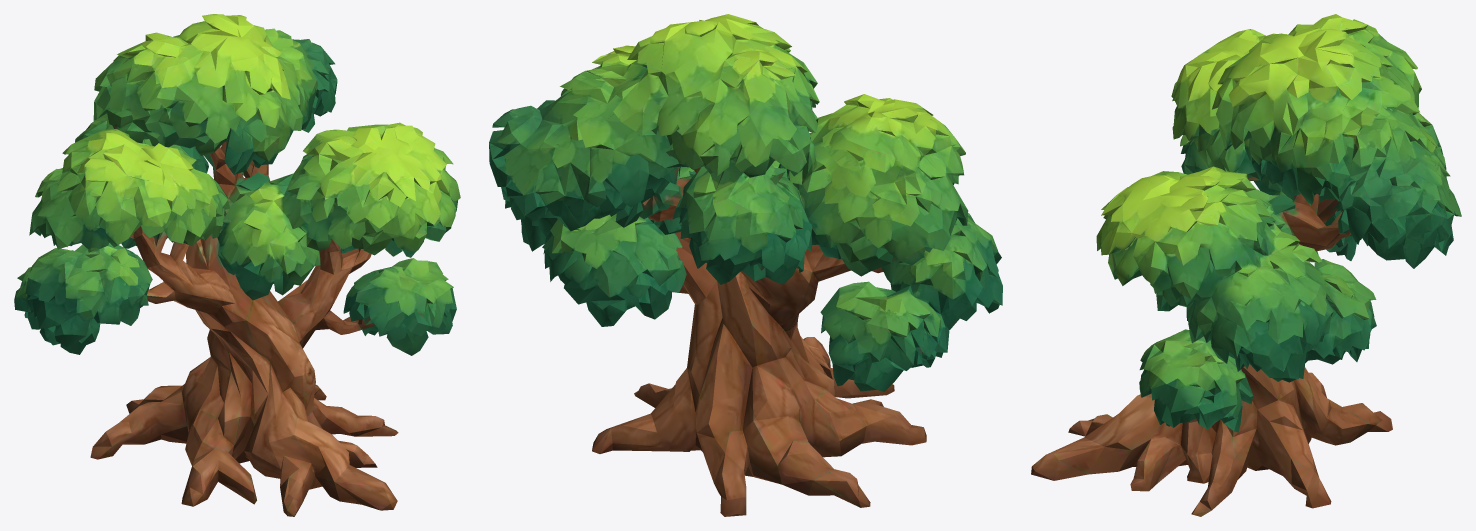
File: tree_oak.glb
The picture shows the model from 3 angles, left to right: view 1: azimuth 30°, elevation 25°; view 2: azimuth 150°, elevation 25°; view 3: azimuth 270°, elevation 25°; orthographic projection. The views are drawn at different scales.
Visible parts, largest first — view 1: output_unwrapped; view 2: output_unwrapped; view 3: output_unwrapped.
Part boxes in pixels (box(x1,y1,x2,y2)): output_unwrapped: box(14, 14, 460, 516); output_unwrapped: box(489, 14, 1002, 516); output_unwrapped: box(1031, 14, 1461, 516).
Bounding box in the file's own units: 1.89 × 1.72 × 1.58.
Materials: 1 (1 with a texture image).
